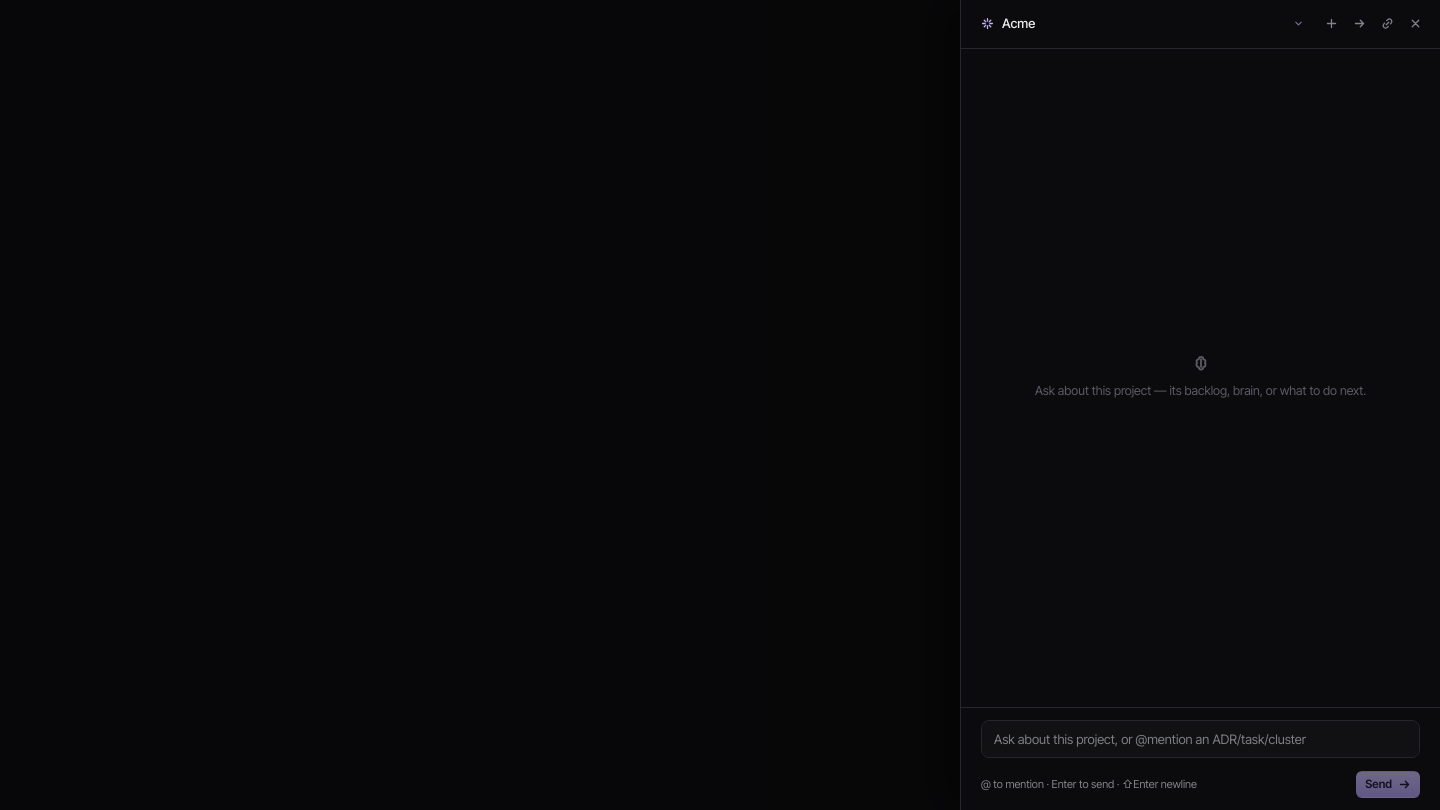
AskDock › sends a user message and renders the mocked brain reply
The width and height of the screenshot is (1440, 810).
Type "How are we doing?" into the text box with placeholder "Ask about this project, or @mention an ADR/task/cluster" at (1200, 738), box [981, 720, 1420, 758]
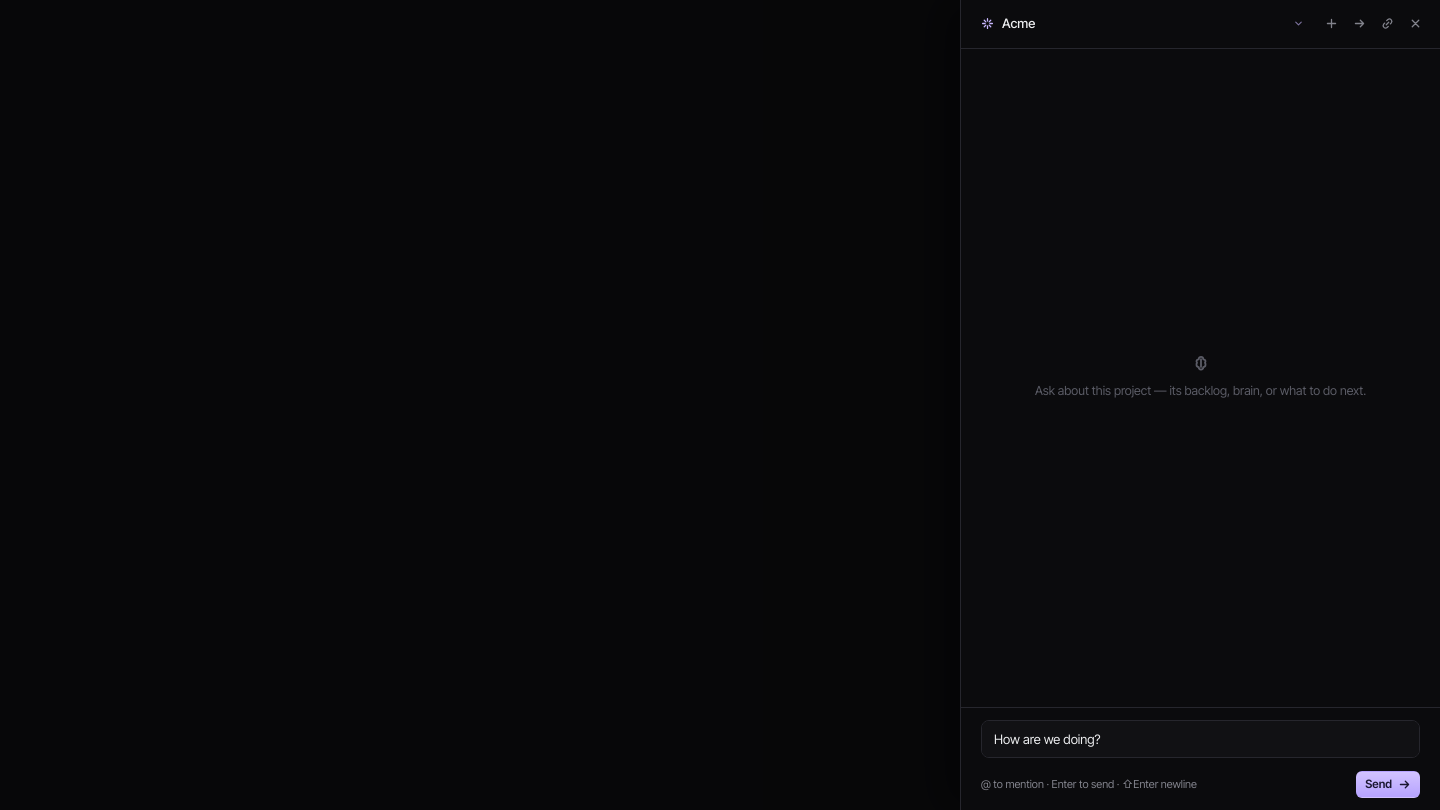
Click the button labelled "Send" at (1388, 784), box [1356, 771, 1420, 798]
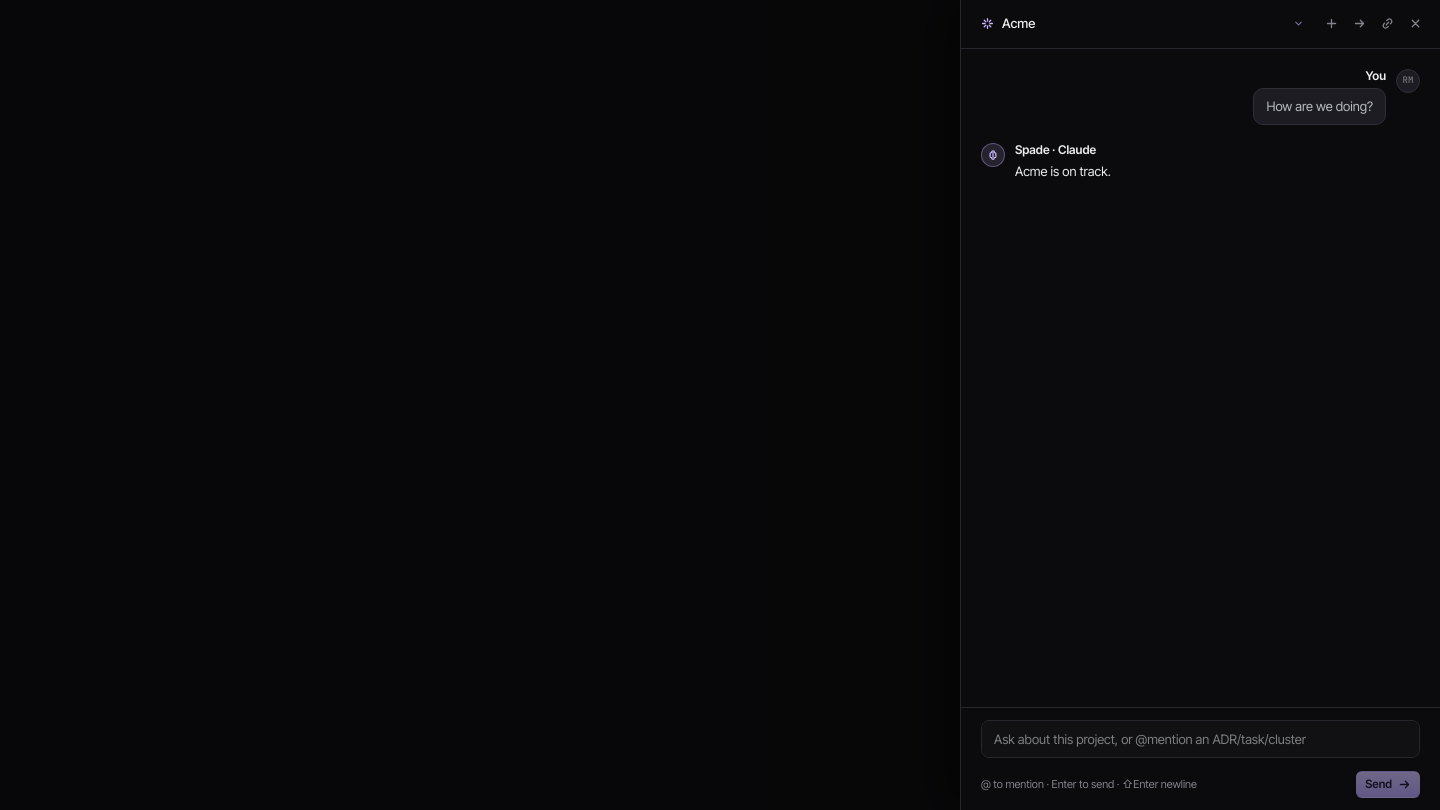
Now the text "How are we doing?" is shown, box [1253, 88, 1386, 125]
Now the text "Acme is on track." is shown, box [1015, 162, 1111, 182]
